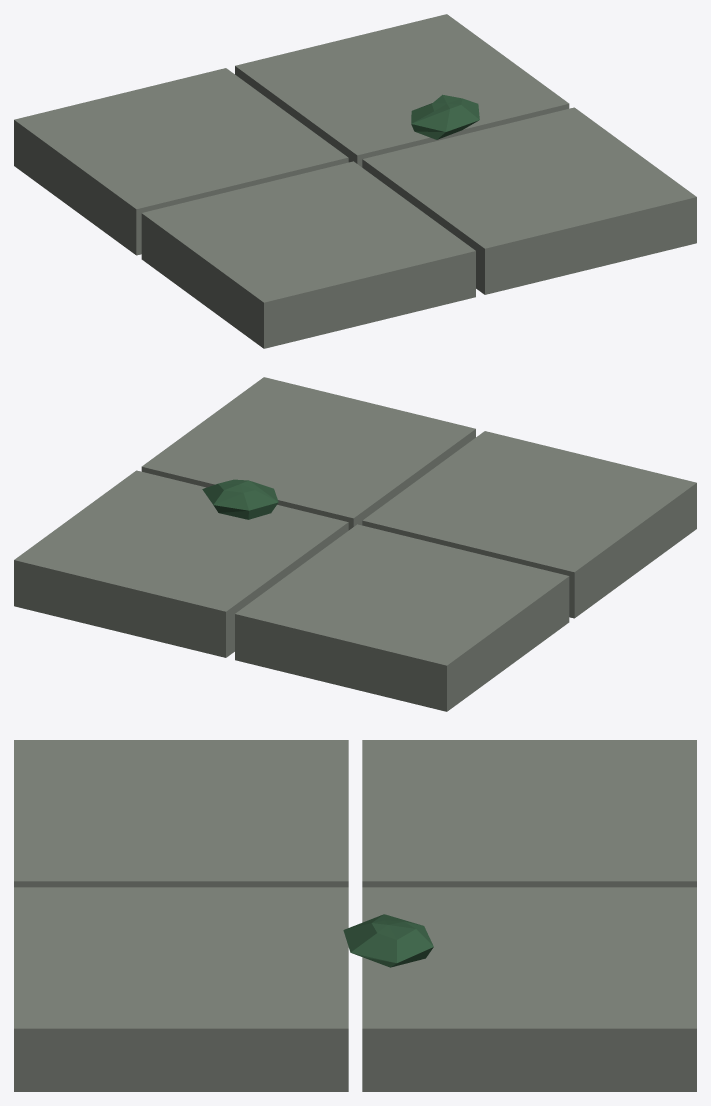
Rendered from ruin_floor.glb.
3 renders of one model, top to bottom at view 1: azimuth 30°, elevation 25°; view 2: azimuth 150°, elevation 25°; view 3: azimuth 270°, elevation 25°, orthographic. The views are drawn at different scales.
Parts seen in each view (by area): view 1: ruin_floor; view 2: ruin_floor; view 3: ruin_floor.
Part boxes in pixels (box(x1,y1,x2,y2)): ruin_floor: box(14, 14, 696, 348); ruin_floor: box(14, 377, 696, 711); ruin_floor: box(14, 740, 696, 1091).
Size of the model in its own units: 1.96 by 0.29 by 1.96.
